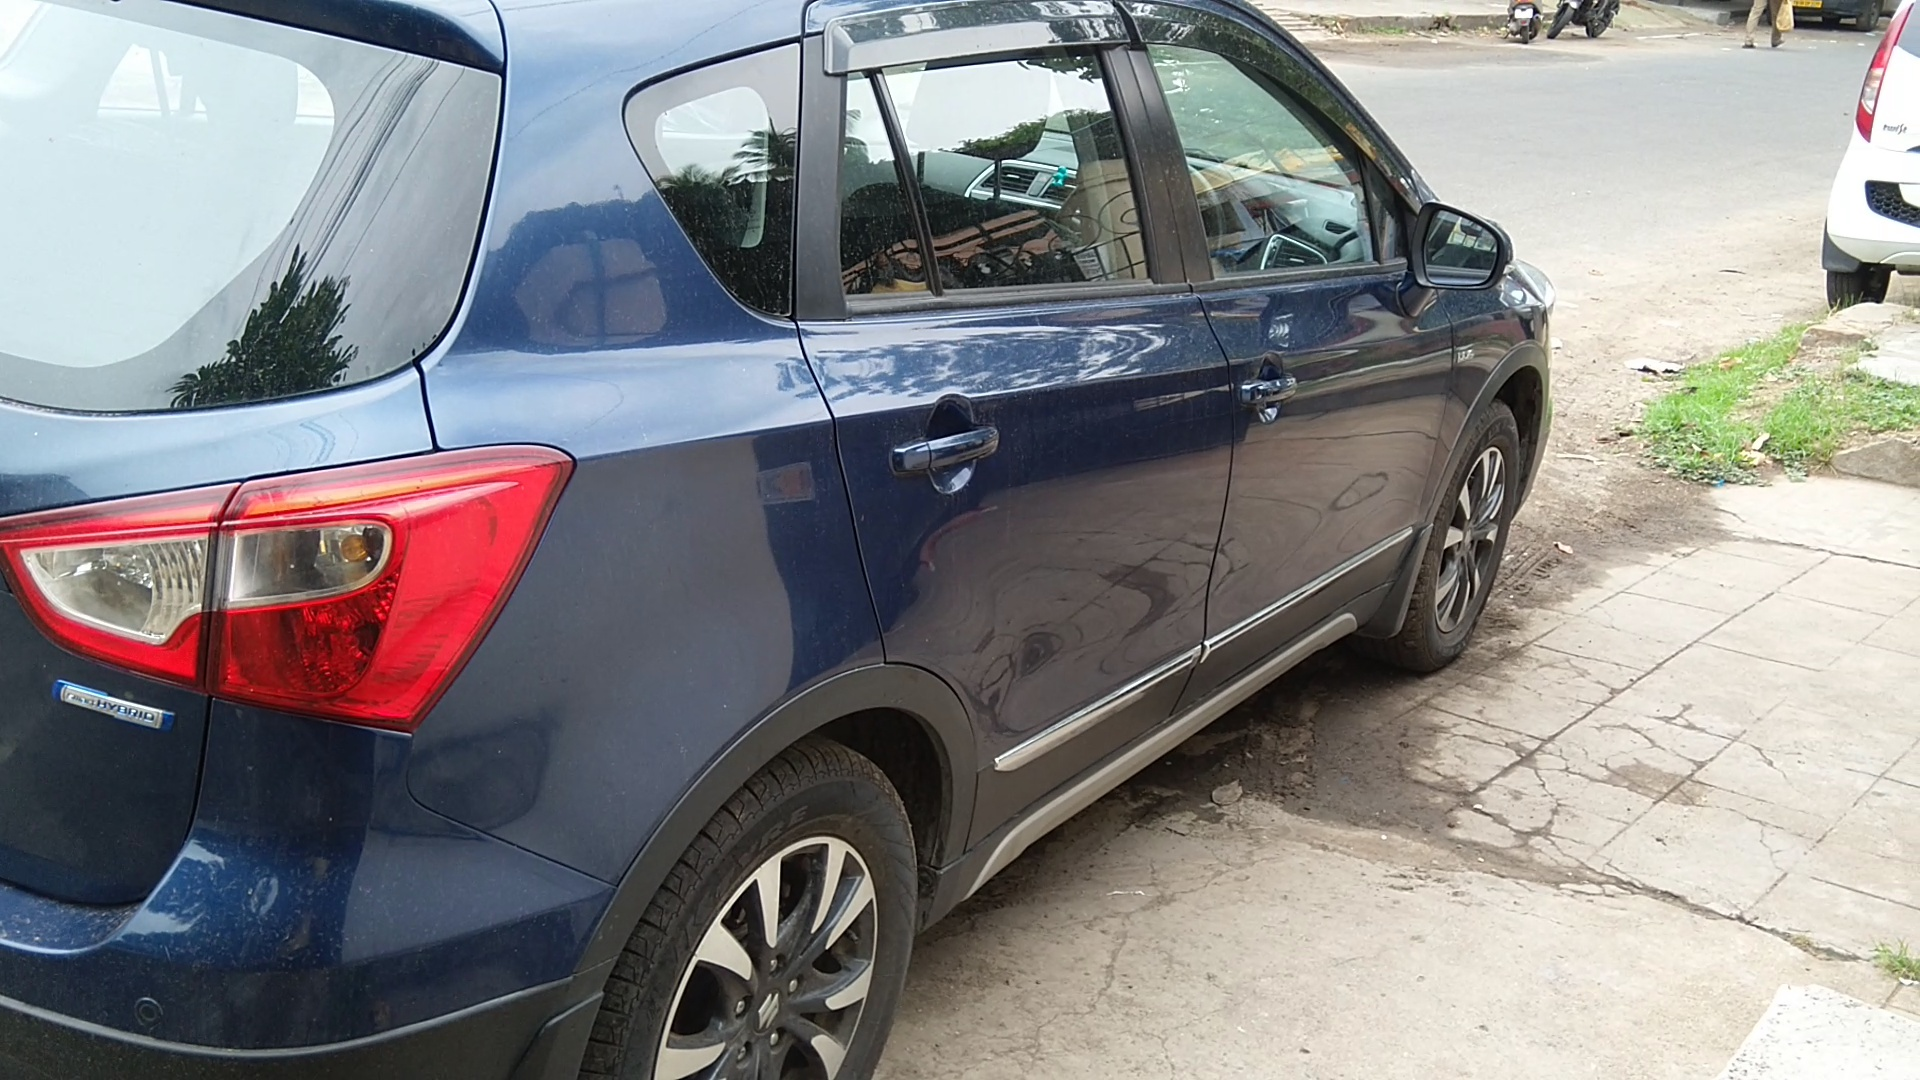alloy_wheel: (599, 756, 920, 1080), (1406, 402, 1534, 665)
shvs: (41, 662, 186, 752)
